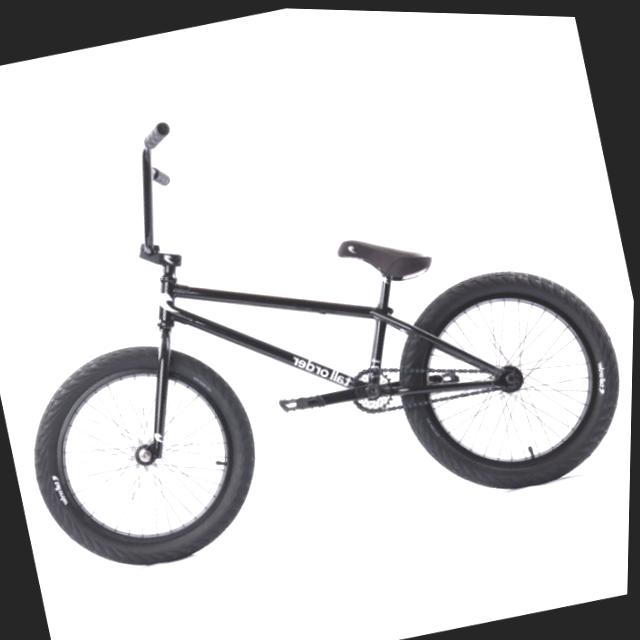bmx-bike: (0, 23, 640, 601)
